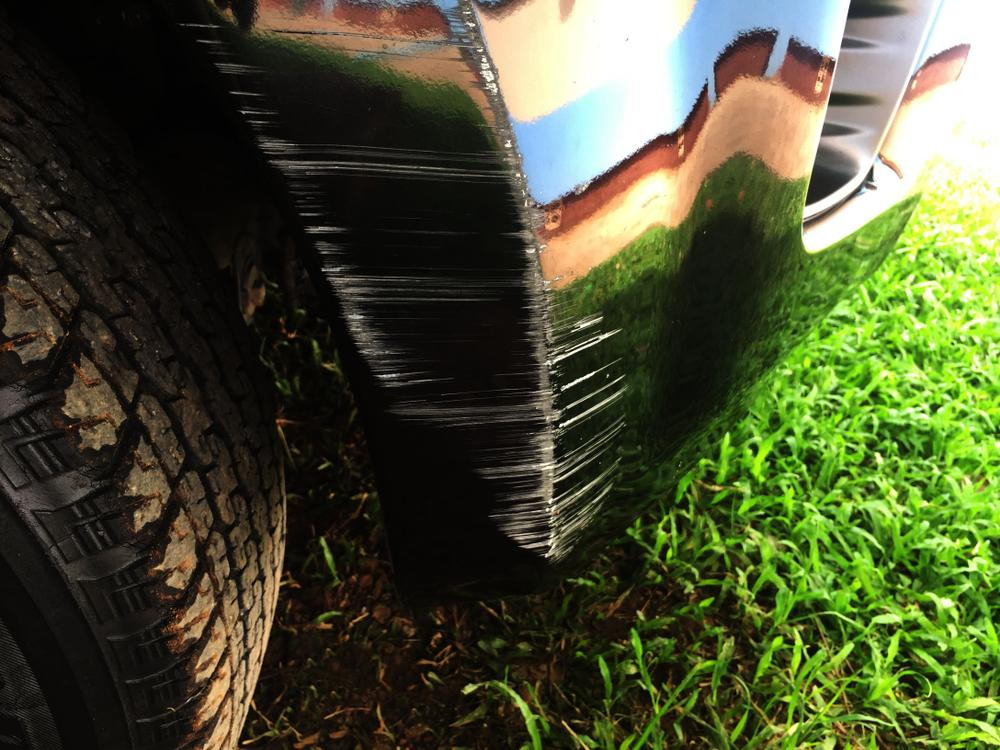scratch: (159, 0, 629, 563)
